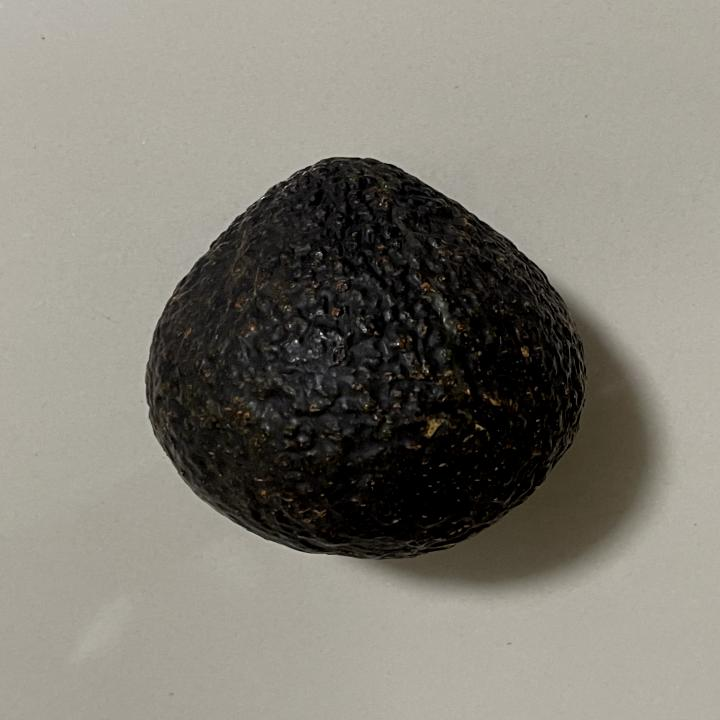Level2: (141, 150, 592, 564)
